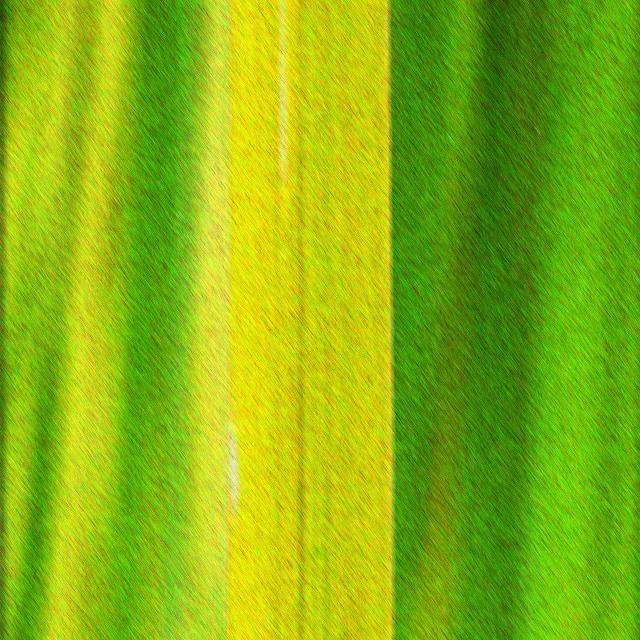BLS: (277, 1, 288, 200), (228, 403, 239, 533)
